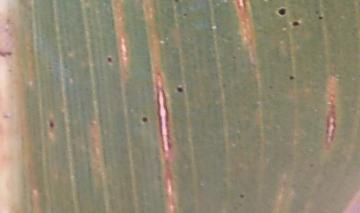tarspot: (276, 6, 287, 17), (1, 48, 12, 57), (174, 84, 185, 93), (290, 19, 300, 27), (47, 120, 55, 129), (237, 191, 246, 199), (105, 55, 113, 63), (141, 115, 149, 123), (316, 13, 323, 21), (181, 10, 189, 17), (288, 74, 295, 81), (172, 1, 180, 3)
